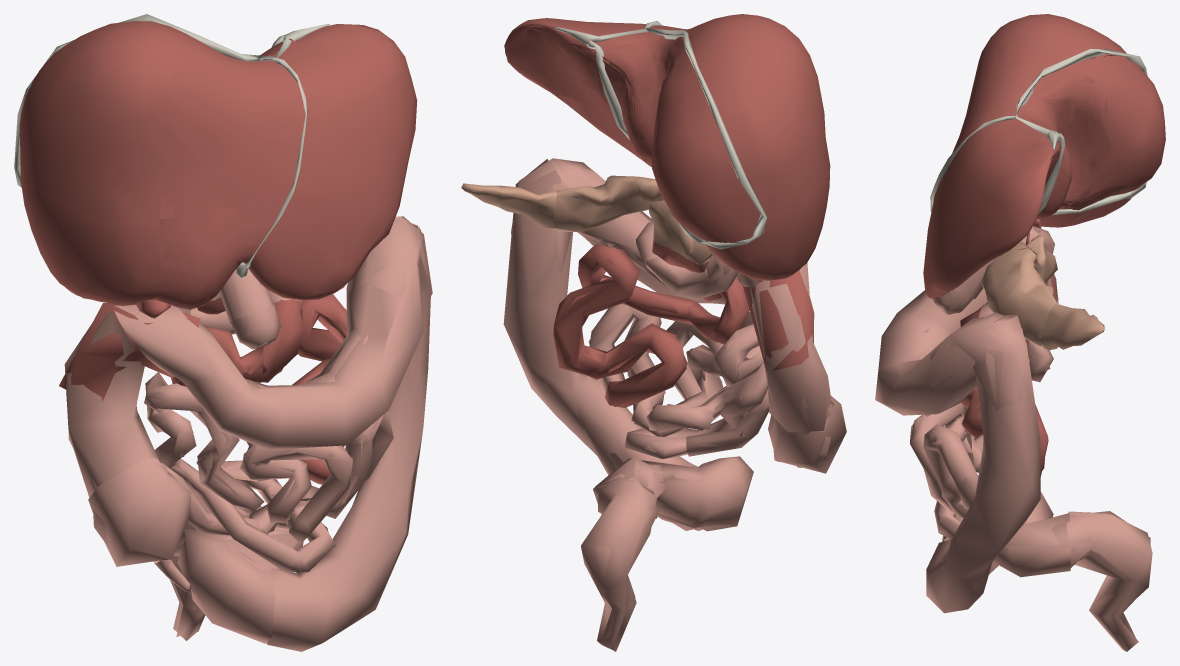
File: adult_female.digestive.LOD3.glb
The picture shows the model from 3 angles, left to right: view 1: azimuth 30°, elevation 25°; view 2: azimuth 150°, elevation 25°; view 3: azimuth 270°, elevation 25°; orthographic projection. The views are drawn at different scales.
Visible parts, largest first — view 1: ADULT.FEMALE.DIGESTIVE.CAPSULE_OF_THE_LIVER, ADULT.FEMALE.DIGESTIVE.TRANSVERSE_COLON, ADULT.FEMALE.DIGESTIVE.ILEUM, ADULT.FEMALE.DIGESTIVE.DESCENDING_COLON, ADULT.FEMALE.DIGESTIVE.LEFT_SUPEROMEDIAL_SEGMENT1, ADULT.FEMALE.DIGESTIVE.ASCENDING_COLON, ADULT.FEMALE.DIGESTIVE.SIGMOID_COLON, ADULT.FEMALE.DIGESTIVE.CAECUM, ADULT.FEMALE.DIGESTIVE.JEJENUM, ADULT.FEMALE.DIGESTIVE.LEFT_INFEROMEDIAL_SEGMENT, ADULT.FEMALE.DIGESTIVE.HEPATIC_FLEXURE_OF_COLON, ADULT.FEMALE.DIGESTIVE.SPLENIC_FLEXURE_OF_COLON (+6 smaller); view 2: ADULT.FEMALE.DIGESTIVE.CAPSULE_OF_THE_LIVER, ADULT.FEMALE.DIGESTIVE.BARE_AREA_OF_LIVER, ADULT.FEMALE.DIGESTIVE.DESCENDING_COLON, ADULT.FEMALE.DIGESTIVE.JEJENUM, ADULT.FEMALE.DIGESTIVE.ILEUM, ADULT.FEMALE.DIGESTIVE.RECTUM, ADULT.FEMALE.DIGESTIVE.SIGMOID_COLON, ADULT.FEMALE.DIGESTIVE.ASCENDING_COLON, ADULT.FEMALE.DIGESTIVE.BODY_OF_PANCREAS, ADULT.FEMALE.DIGESTIVE.DIAPHRAGMATIC_SURFACE_OF_LIVER, ADULT.FEMALE.DIGESTIVE.TRANSVERSE_COLON, ADULT.FEMALE.DIGESTIVE.HEPATIC_FLEXURE_OF_COLON (+13 smaller); view 3: ADULT.FEMALE.DIGESTIVE.CAPSULE_OF_THE_LIVER, ADULT.FEMALE.DIGESTIVE.DESCENDING_COLON, ADULT.FEMALE.DIGESTIVE.BARE_AREA_OF_LIVER, ADULT.FEMALE.DIGESTIVE.TRANSVERSE_COLON, ADULT.FEMALE.DIGESTIVE.RECTUM, ADULT.FEMALE.DIGESTIVE.ILEUM, ADULT.FEMALE.DIGESTIVE.BODY_OF_PANCREAS, ADULT.FEMALE.DIGESTIVE.SIGMOID_COLON, ADULT.FEMALE.DIGESTIVE.CAUDATE_LOBE, ADULT.FEMALE.DIGESTIVE.SPLENIC_FLEXURE_OF_COLON, ADULT.FEMALE.DIGESTIVE.TAIL_OF_PANCREAS, ADULT.FEMALE.DIGESTIVE.LEFT_SUPEROMEDIAL_SEGMENT1 (+8 smaller).
Part boxes in pixels (box(x1,y1,x2,y2)): ADULT.FEMALE.DIGESTIVE.CAPSULE_OF_THE_LIVER: box(19, 21, 417, 309); ADULT.FEMALE.DIGESTIVE.TRANSVERSE_COLON: box(114, 216, 423, 449); ADULT.FEMALE.DIGESTIVE.ILEUM: box(144, 372, 393, 573); ADULT.FEMALE.DIGESTIVE.DESCENDING_COLON: box(266, 222, 431, 651); ADULT.FEMALE.DIGESTIVE.LEFT_SUPEROMEDIAL_SEGMENT1: box(160, 45, 307, 218); ADULT.FEMALE.DIGESTIVE.ASCENDING_COLON: box(64, 311, 158, 497); ADULT.FEMALE.DIGESTIVE.SIGMOID_COLON: box(177, 506, 303, 643); ADULT.FEMALE.DIGESTIVE.CAECUM: box(88, 458, 191, 566); ADULT.FEMALE.DIGESTIVE.JEJENUM: box(171, 294, 346, 484); ADULT.FEMALE.DIGESTIVE.LEFT_INFEROMEDIAL_SEGMENT: box(151, 204, 282, 308); ADULT.FEMALE.DIGESTIVE.HEPATIC_FLEXURE_OF_COLON: box(59, 303, 200, 403); ADULT.FEMALE.DIGESTIVE.SPLENIC_FLEXURE_OF_COLON: box(347, 216, 432, 306); ADULT.FEMALE.DIGESTIVE.CAPSULE_OF_THE_LIVER: box(504, 14, 830, 280); ADULT.FEMALE.DIGESTIVE.BARE_AREA_OF_LIVER: box(589, 35, 760, 242); ADULT.FEMALE.DIGESTIVE.DESCENDING_COLON: box(503, 159, 702, 530); ADULT.FEMALE.DIGESTIVE.JEJENUM: box(553, 244, 749, 407); ADULT.FEMALE.DIGESTIVE.ILEUM: box(588, 304, 767, 459); ADULT.FEMALE.DIGESTIVE.RECTUM: box(581, 479, 659, 651); ADULT.FEMALE.DIGESTIVE.SIGMOID_COLON: box(593, 456, 753, 531); ADULT.FEMALE.DIGESTIVE.ASCENDING_COLON: box(752, 263, 831, 434); ADULT.FEMALE.DIGESTIVE.BODY_OF_PANCREAS: box(553, 175, 655, 231); ADULT.FEMALE.DIGESTIVE.DIAPHRAGMATIC_SURFACE_OF_LIVER: box(504, 24, 801, 280); ADULT.FEMALE.DIGESTIVE.TRANSVERSE_COLON: box(550, 160, 760, 304); ADULT.FEMALE.DIGESTIVE.HEPATIC_FLEXURE_OF_COLON: box(740, 270, 814, 372); ADULT.FEMALE.DIGESTIVE.CAPSULE_OF_THE_LIVER: box(923, 14, 1132, 298); ADULT.FEMALE.DIGESTIVE.DESCENDING_COLON: box(926, 315, 1040, 613); ADULT.FEMALE.DIGESTIVE.BARE_AREA_OF_LIVER: box(1020, 55, 1165, 206); ADULT.FEMALE.DIGESTIVE.TRANSVERSE_COLON: box(875, 288, 1017, 416); ADULT.FEMALE.DIGESTIVE.RECTUM: box(1066, 511, 1152, 651); ADULT.FEMALE.DIGESTIVE.ILEUM: box(910, 341, 1053, 539); ADULT.FEMALE.DIGESTIVE.BODY_OF_PANCREAS: box(981, 248, 1058, 346); ADULT.FEMALE.DIGESTIVE.SIGMOID_COLON: box(942, 491, 1071, 577); ADULT.FEMALE.DIGESTIVE.CAUDATE_LOBE: box(1020, 71, 1111, 218); ADULT.FEMALE.DIGESTIVE.SPLENIC_FLEXURE_OF_COLON: box(930, 312, 1024, 410); ADULT.FEMALE.DIGESTIVE.TAIL_OF_PANCREAS: box(1040, 303, 1104, 350); ADULT.FEMALE.DIGESTIVE.LEFT_SUPEROMEDIAL_SEGMENT1: box(948, 43, 1033, 167).
Size of the model in its own units: 0.2534 by 0.4455 by 0.1996.
